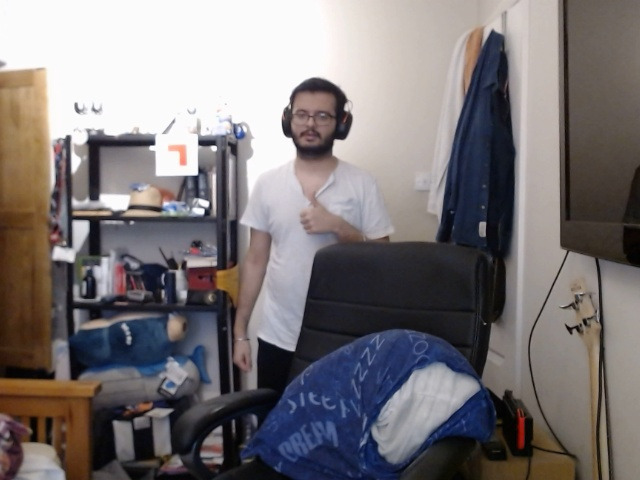Thumbs up: (298, 189, 340, 242)
